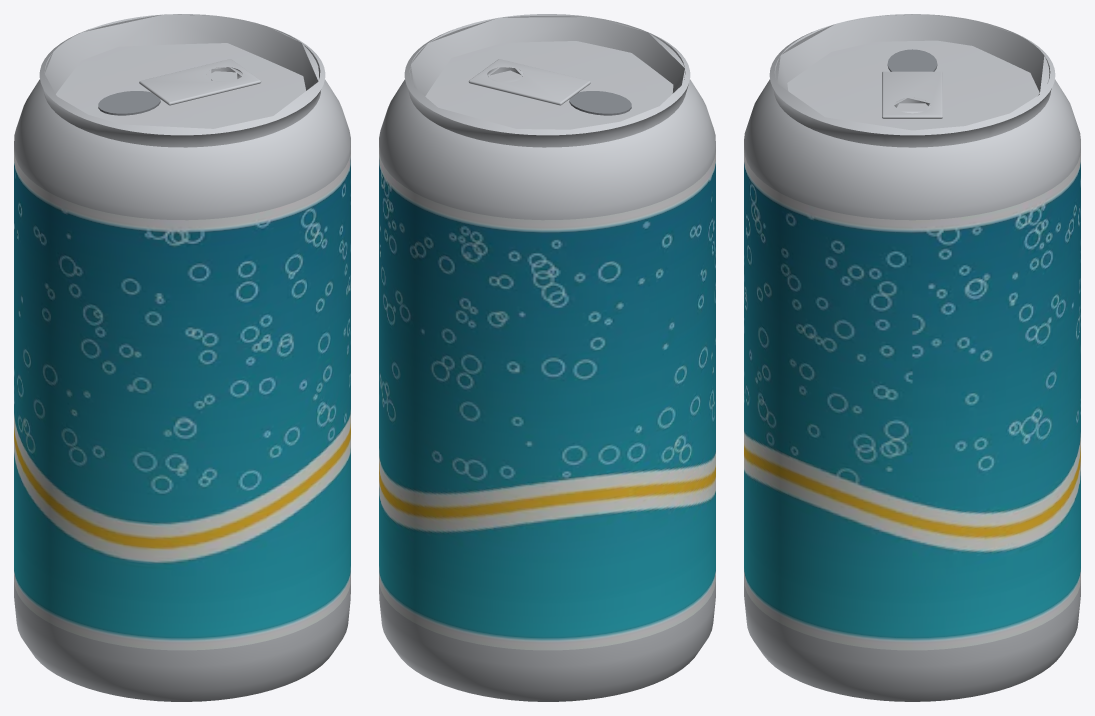
Rendered from g3d_soda_can.glb.
3 views of the same model, side by side, from view 1: azimuth 30°, elevation 25°; view 2: azimuth 150°, elevation 25°; view 3: azimuth 270°, elevation 25° (orthographic).
Parts seen in each view (by area): view 1: soda-can_body, soda-can_body_lo, soda-can_opening; view 2: soda-can_body, soda-can_body_lo, soda-can_opening, soda-can_opening_lo; view 3: soda-can_body, soda-can_body_lo, soda-can_opening.
Boxes of the visible parts, <box> form: soda-can_body: <box>14,14,350,701</box>; soda-can_body_lo: <box>43,14,319,146</box>; soda-can_opening: <box>98,91,160,115</box>; soda-can_body: <box>379,14,715,701</box>; soda-can_body_lo: <box>407,16,688,146</box>; soda-can_opening: <box>569,91,631,115</box>; soda-can_opening_lo: <box>571,91,631,113</box>; soda-can_body: <box>744,14,1080,701</box>; soda-can_body_lo: <box>775,14,1051,146</box>; soda-can_opening: <box>887,49,937,71</box>.
Size of the model in its own units: 0.066 by 0.1231 by 0.066.
3 materials, 1 textured.
